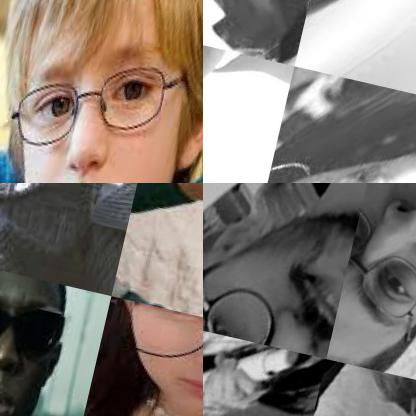Glasses: (0, 32, 189, 176)
glasses: (203, 225, 347, 359), (327, 183, 415, 381), (100, 296, 202, 399), (234, 134, 409, 182), (0, 282, 73, 380)
hands: (203, 327, 291, 415)
